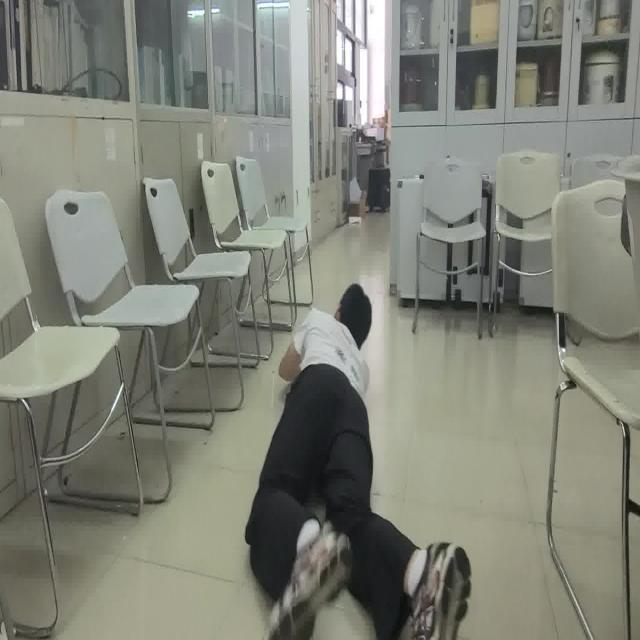fall: (240, 278, 475, 640)
